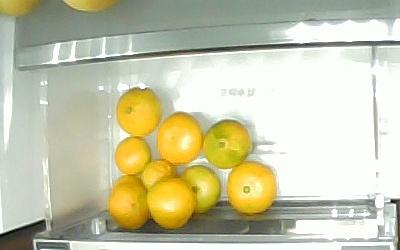tangerine: (225, 159, 277, 214), (145, 174, 196, 229), (155, 110, 203, 166), (201, 118, 251, 169), (114, 85, 163, 137), (106, 173, 151, 229), (177, 164, 221, 214), (113, 135, 152, 176), (140, 158, 178, 191)
